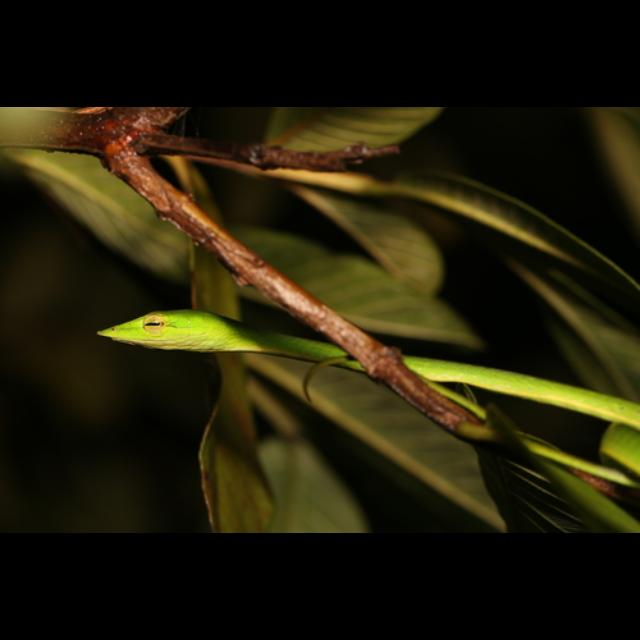snake: (88, 298, 640, 444)
